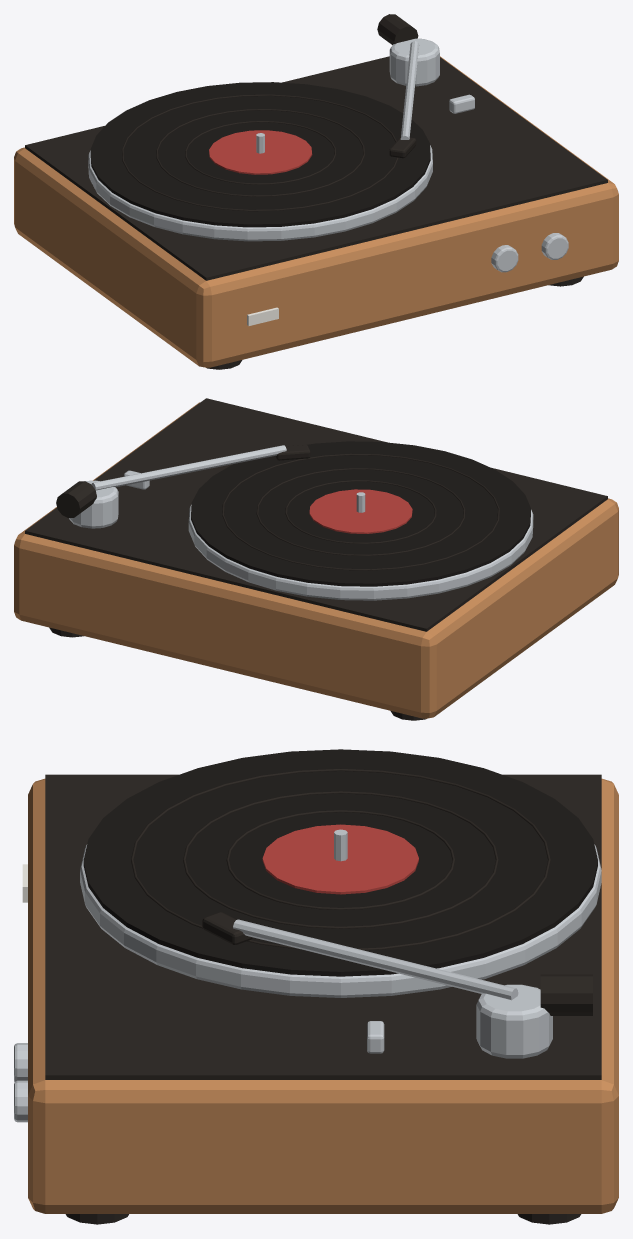
File: hh_cat_record_player.glb
The picture shows the model from 3 angles, top to bottom: view 1: azimuth 30°, elevation 25°; view 2: azimuth 150°, elevation 25°; view 3: azimuth 270°, elevation 25°; orthographic projection. The views are drawn at different scales.
Parts seen in each view (by area): view 1: plinth, record, deck_plate, platter, record_label, tonearm_base, groove, groove.001, tonearm, counterweight, groove.002, knob (+1 smaller); view 2: plinth, record, deck_plate, platter, record_label, tonearm, groove, tonearm_base, counterweight, groove.001, groove.002; view 3: plinth, record, deck_plate, platter, record_label, tonearm_base, tonearm, groove, groove.001, counterweight, groove.002, headshell.
Part boxes in pixels (bbox=[...]): plinth: bbox=[14, 56, 618, 367]; record: bbox=[90, 82, 430, 227]; deck_plate: bbox=[25, 56, 607, 280]; platter: bbox=[88, 145, 432, 241]; record_label: bbox=[209, 130, 312, 174]; tonearm_base: bbox=[389, 38, 439, 86]; groove: bbox=[121, 94, 398, 211]; groove.001: bbox=[156, 109, 364, 196]; tonearm: bbox=[400, 41, 419, 139]; counterweight: bbox=[377, 14, 418, 45]; groove.002: bbox=[185, 121, 336, 184]; knob: bbox=[491, 245, 518, 272]; plinth: bbox=[14, 402, 618, 718]; record: bbox=[191, 441, 530, 586]; deck_plate: bbox=[25, 398, 607, 631]; platter: bbox=[188, 504, 533, 600]; record_label: bbox=[309, 489, 412, 533]; tonearm: bbox=[91, 445, 286, 490]; groove: bbox=[222, 453, 499, 570]; tonearm_base: bbox=[69, 480, 118, 528]; counterweight: bbox=[56, 481, 96, 517]; groove.001: bbox=[256, 468, 465, 555]; groove.002: bbox=[285, 480, 436, 543]; plinth: bbox=[28, 778, 618, 1213]; record: bbox=[83, 749, 597, 976]; deck_plate: bbox=[45, 774, 601, 1079]; platter: bbox=[80, 844, 601, 997]; record_label: bbox=[262, 824, 418, 894]; tonearm_base: bbox=[476, 984, 552, 1058]; tonearm: bbox=[233, 919, 518, 1000]; groove: bbox=[131, 768, 550, 950]; groove.001: bbox=[183, 791, 498, 928]; counterweight: bbox=[540, 974, 592, 1015]; groove.002: bbox=[226, 810, 455, 909]; headshell: bbox=[202, 912, 252, 944].
Bounding box in the file's own units: 0.42 × 0.14 × 0.34.
